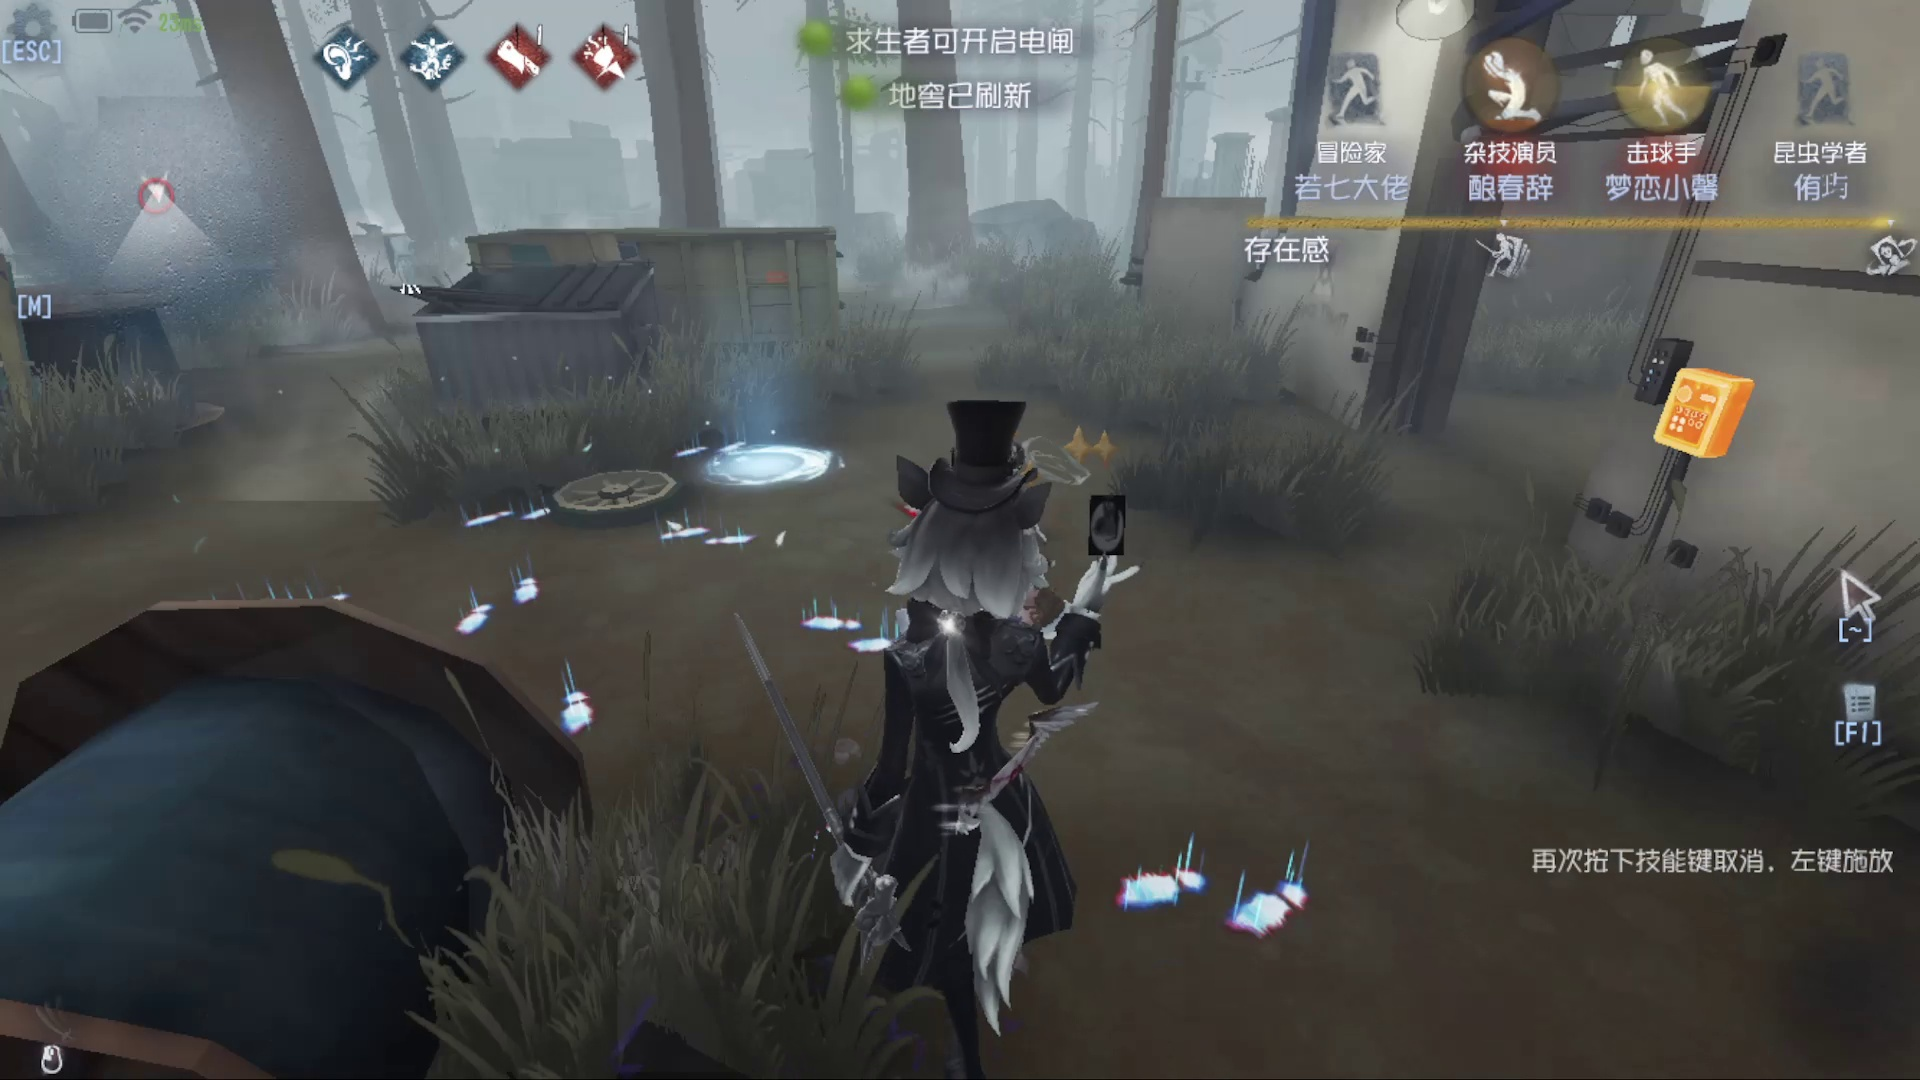木板: (459, 215, 640, 305)
